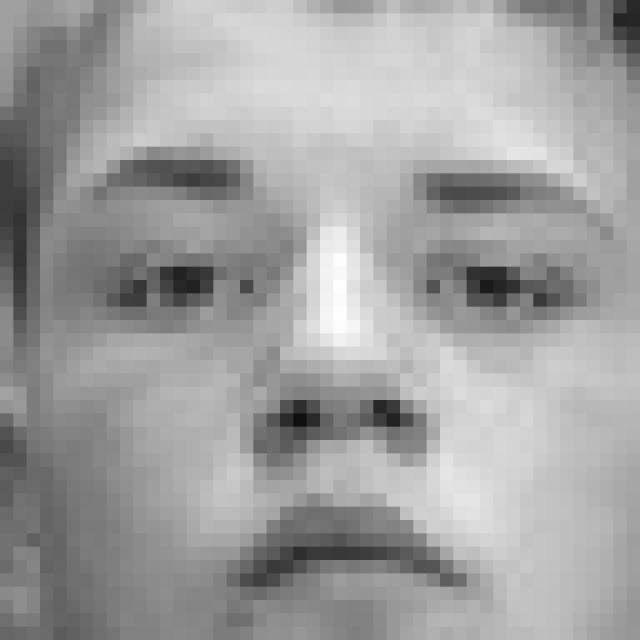neutral: (81, 134, 608, 629)
